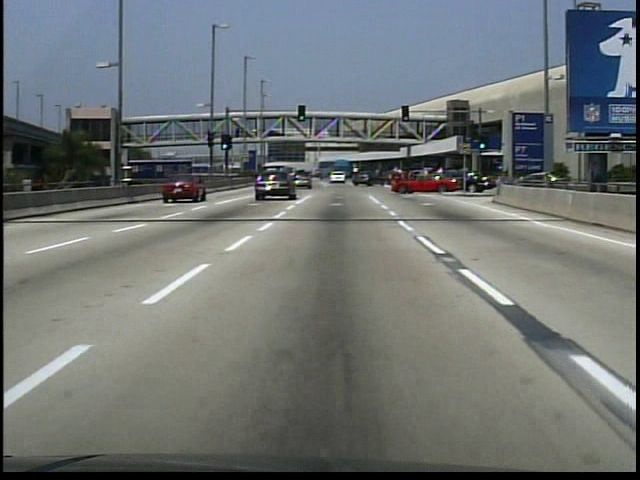person: (235, 128, 241, 141)
